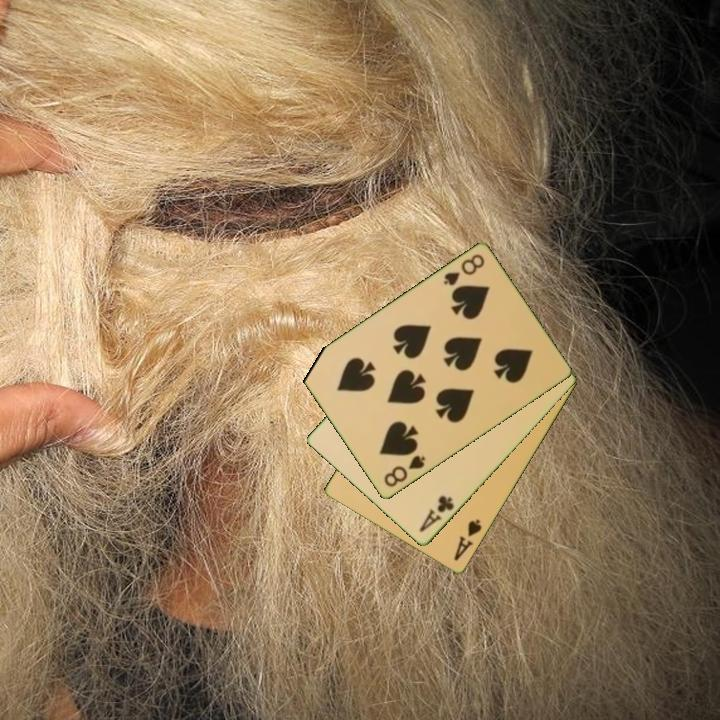8s: (380, 452, 428, 490), (440, 251, 487, 289)
Ac: (416, 492, 457, 535)
As: (450, 516, 485, 564)
